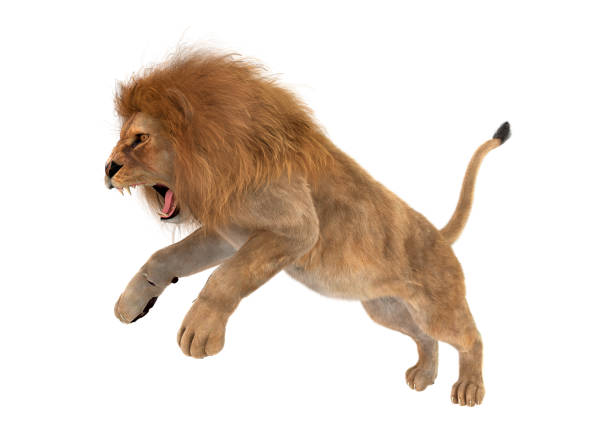lion: (88, 36, 336, 253)
